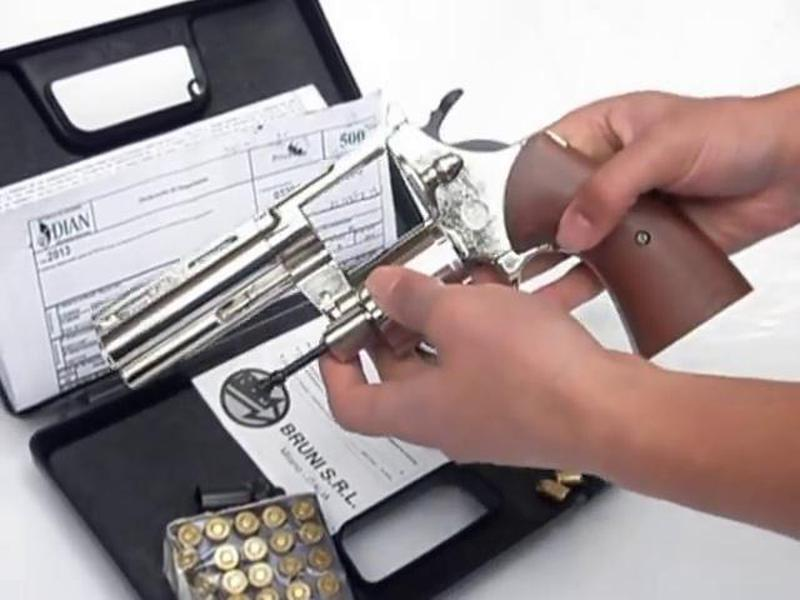Revolver: (76, 110, 761, 393)
